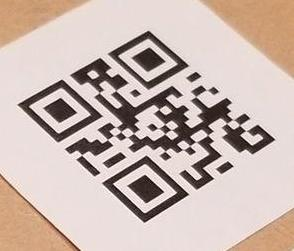qrcode: (17, 31, 276, 224)
